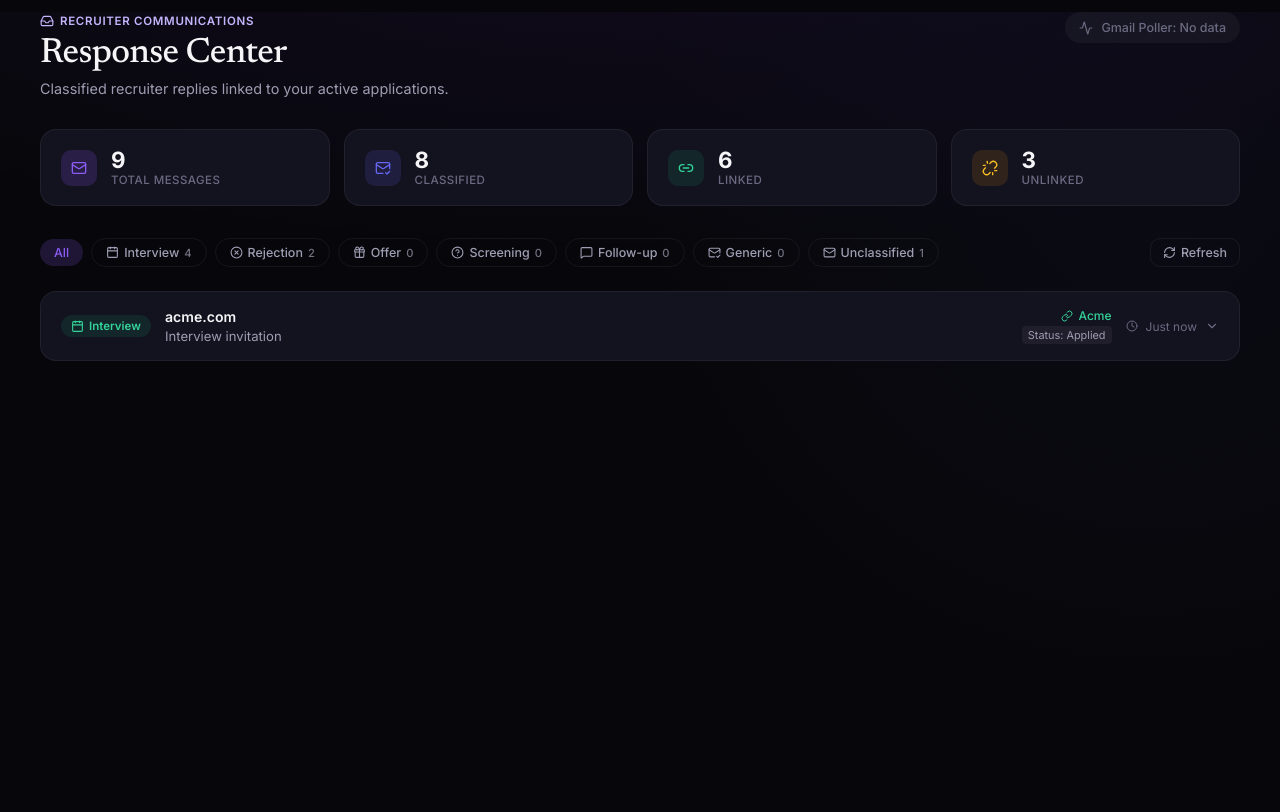
Test: ResponseCenterPlaceholder › creates a Gmail draft only after the explicit Approve click, passing the suggested text
This screenshot has width=1280, height=812.
Click the text "Interview invitation". click: click(223, 336)
box: [165,328,282,344]
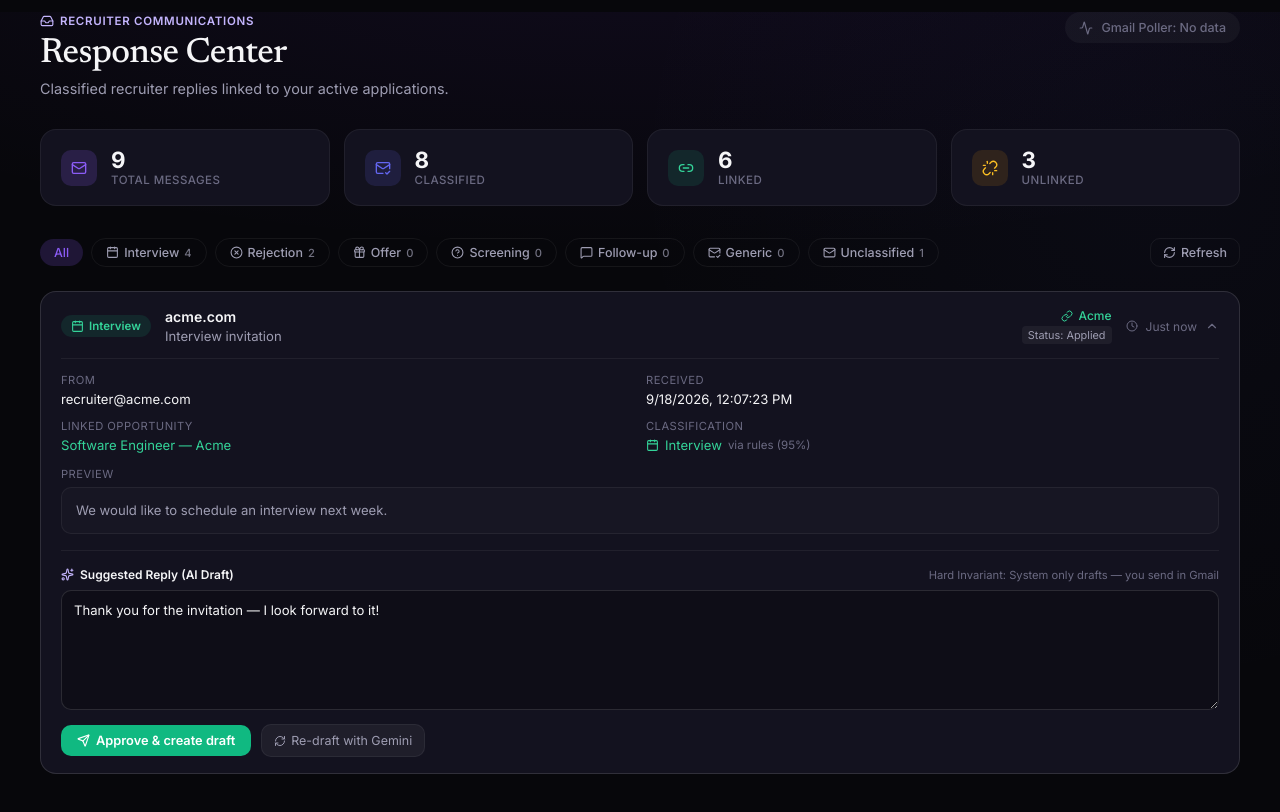
Expected: the button "Approve & create draft" is shown
Click the button "Approve & create draft". click: click(156, 741)
box: [61,725,251,756]
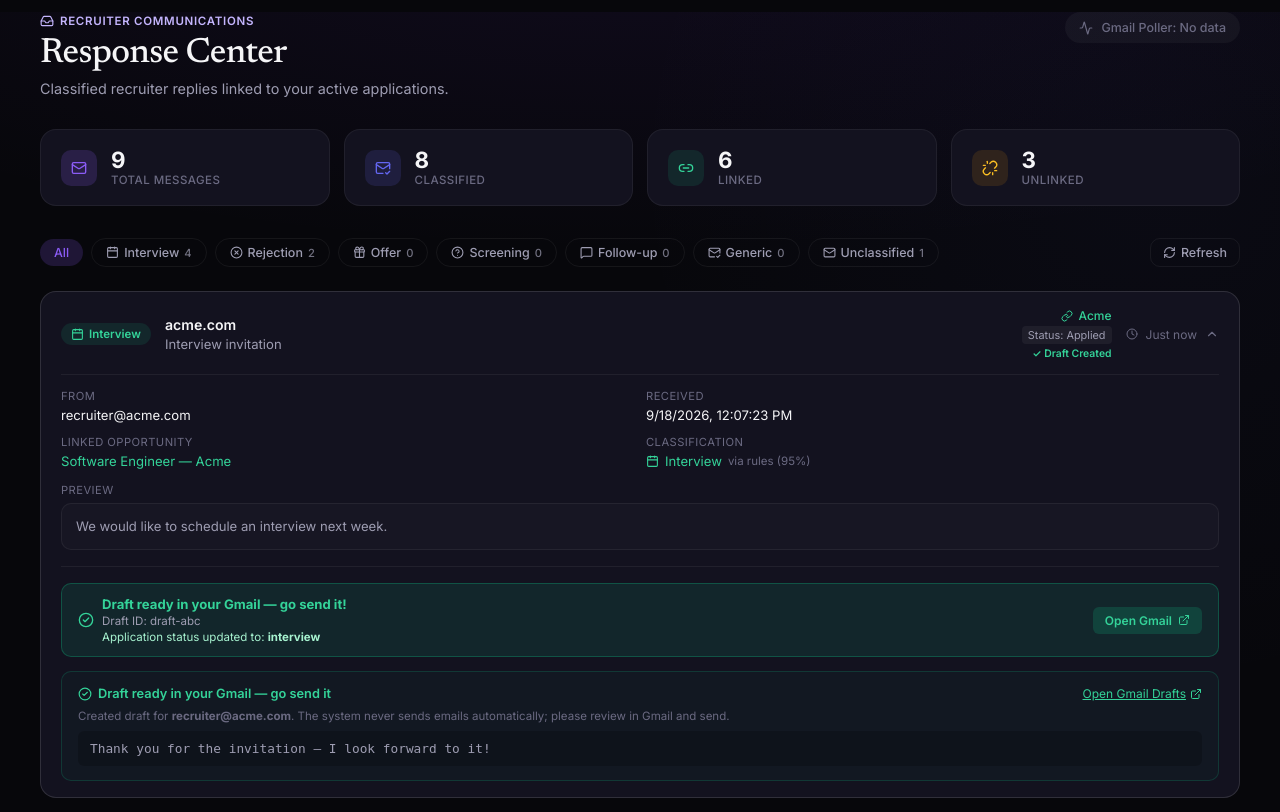
Expected: the text "Draft ready in your Gmail — go send it!" is shown, [102,596,347,612]
Expected: the text "Draft ID: draft-abc" is shown, [102,614,201,628]
Expected: the text "The system never sends emails automatically; please review in Gmail and send" is shown, [291,709,730,723]
